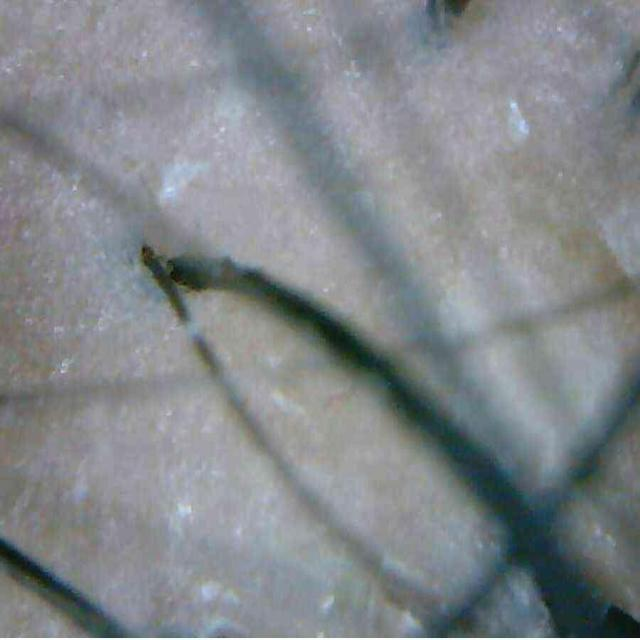d: (158, 161, 209, 203), (508, 97, 530, 143)
